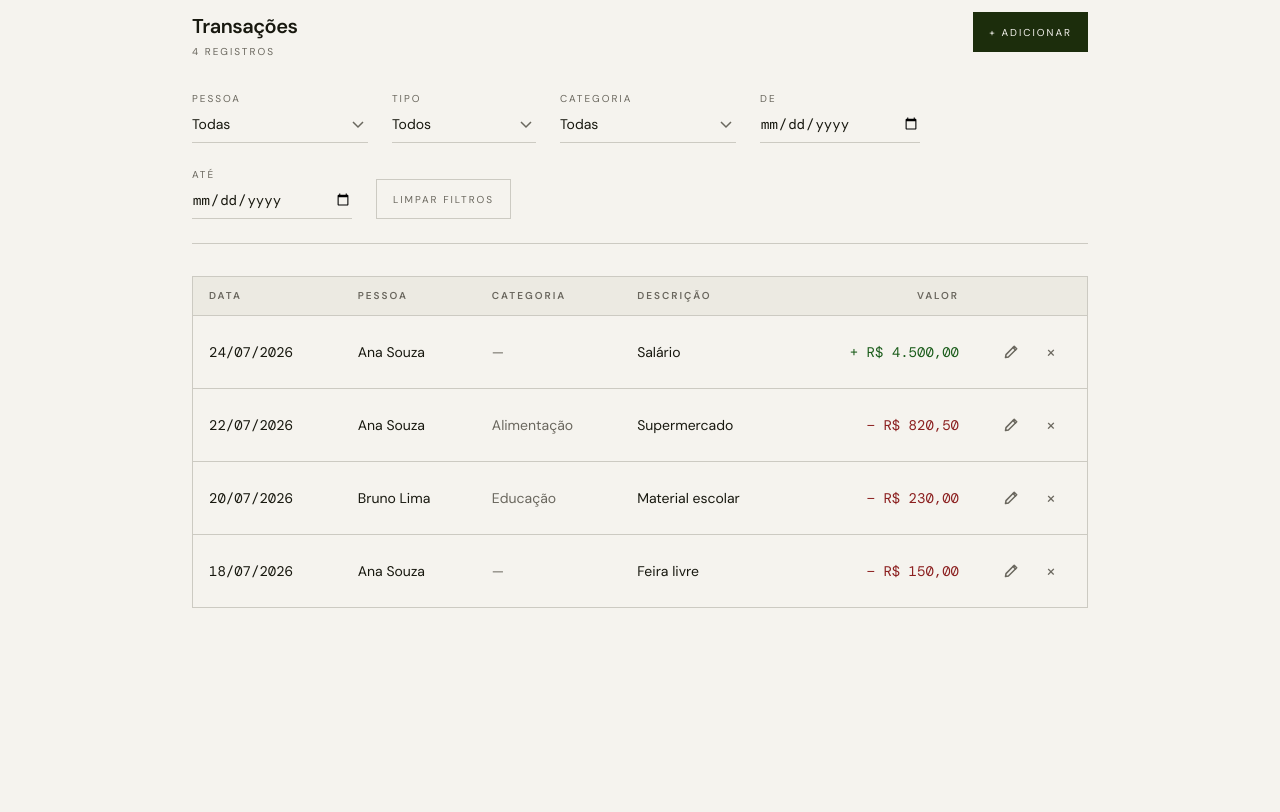
transações › recusa data futura
Expected: the text "Supermercado" is shown, top-left (621, 389), bottom-right (794, 462)
Click the button "+ Adicionar": x=1031, y=32 top-left (973, 12), bottom-right (1088, 52)
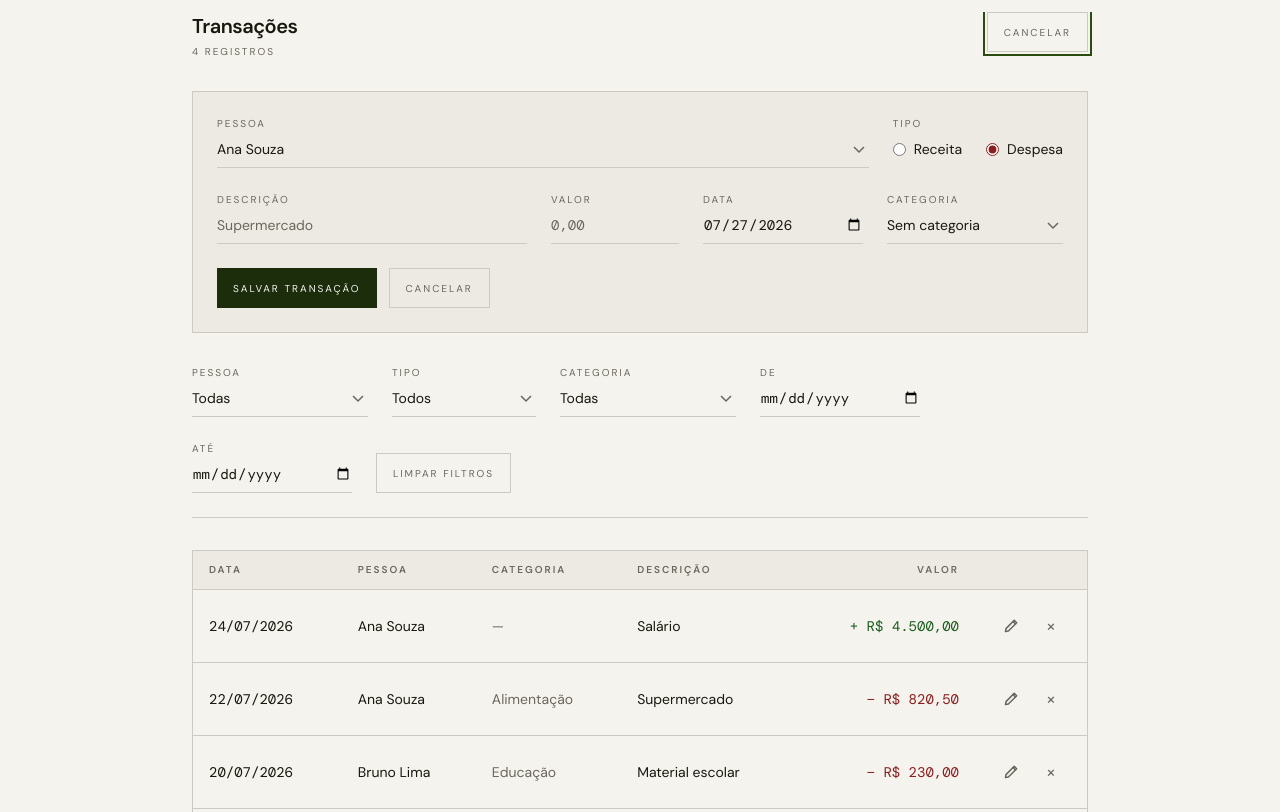
In the field labelled "Descrição": x=372, y=226 top-left (217, 207), bottom-right (527, 244), type "Padaria"
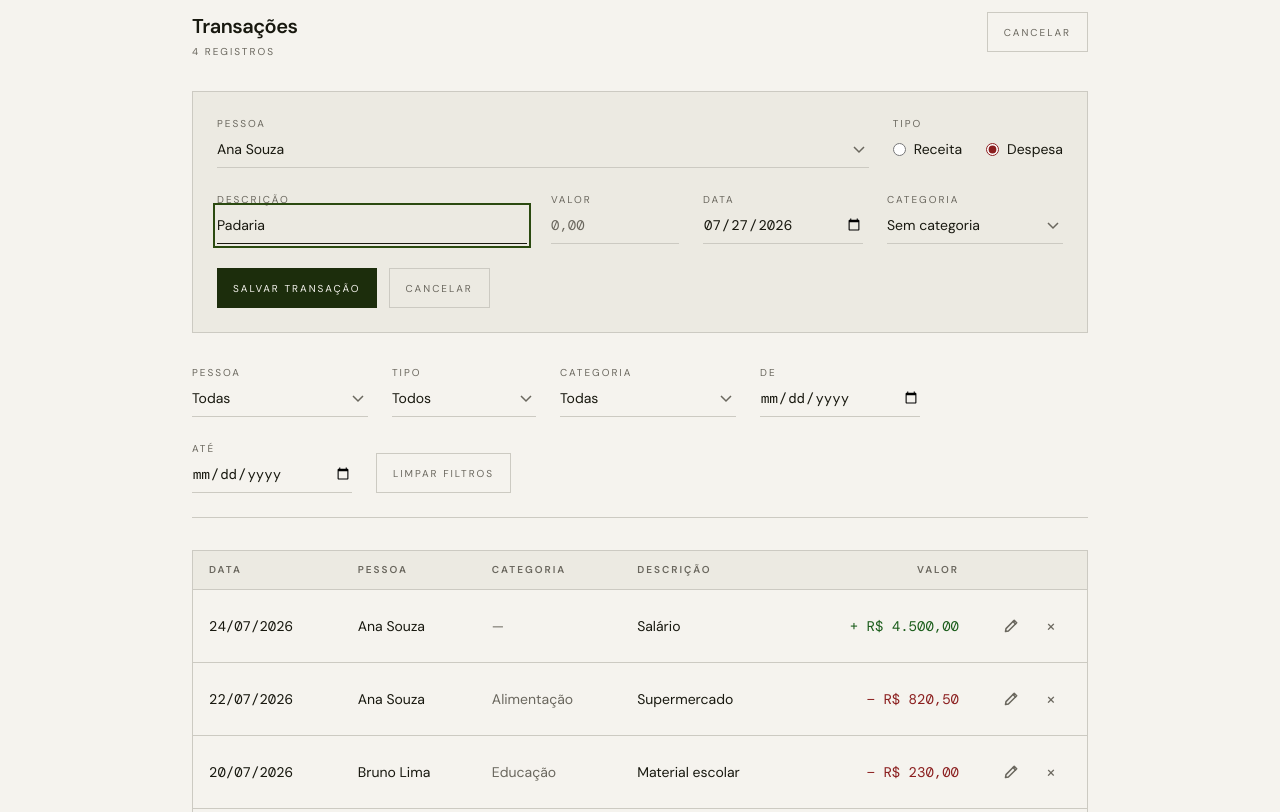
In the number field labelled "Valor": x=615, y=226 top-left (551, 207), bottom-right (679, 244), type "25"
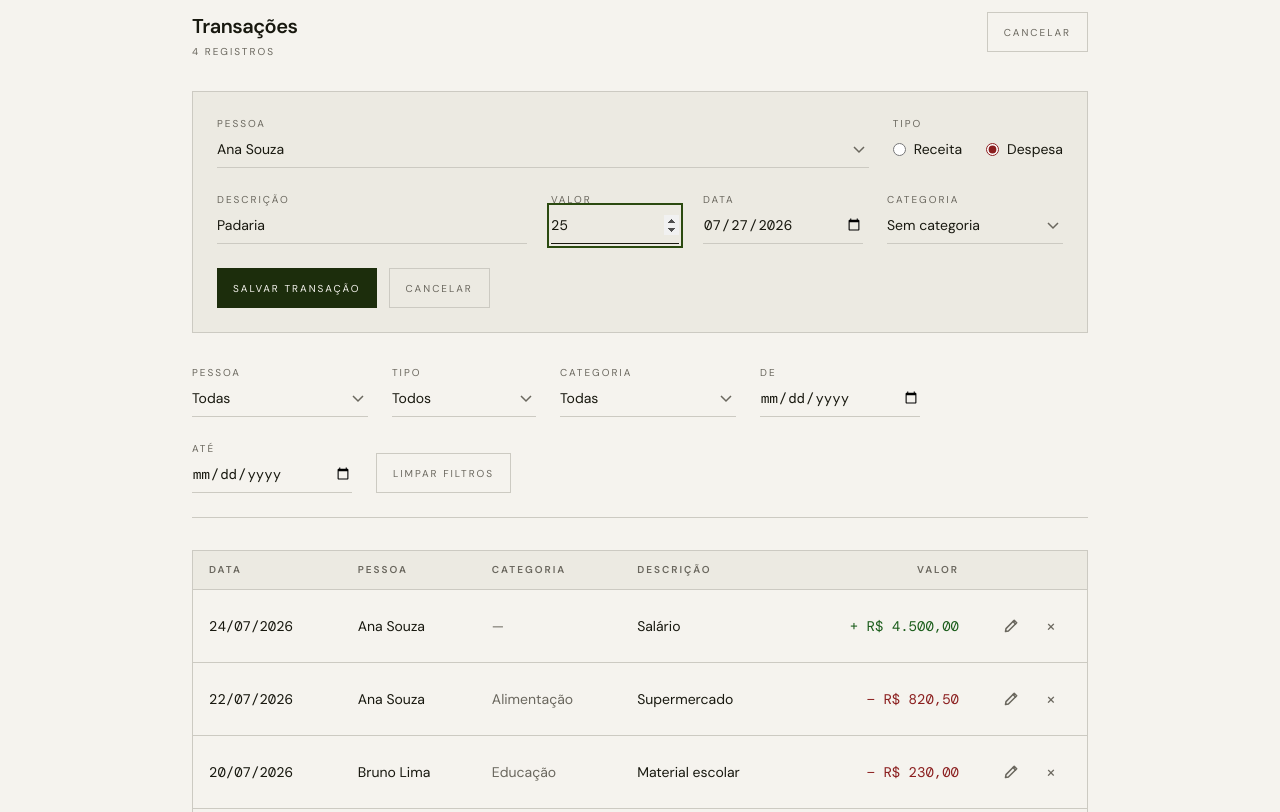
In the date field labelled "Data": x=783, y=226 top-left (703, 207), bottom-right (863, 244), type "2099-12-31"
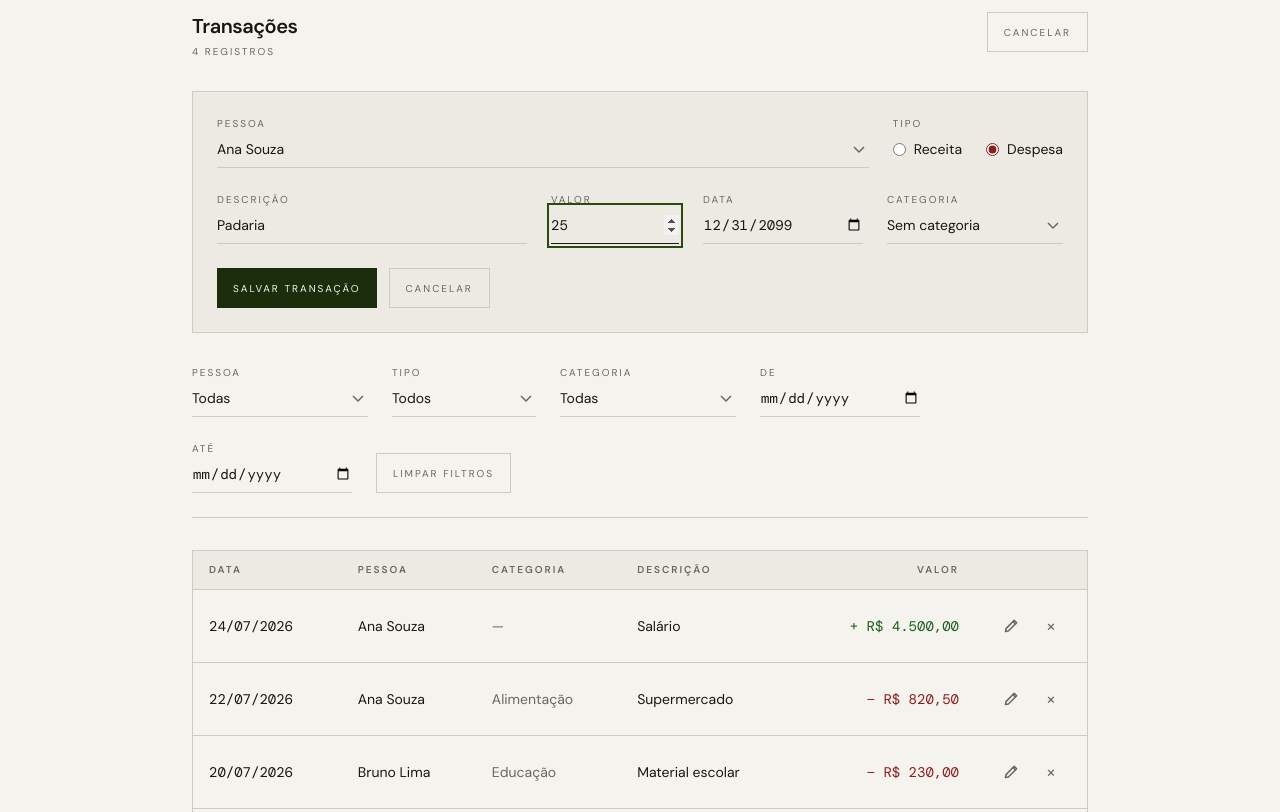
Click the button "Salvar transação": x=297, y=288 top-left (217, 268), bottom-right (377, 308)
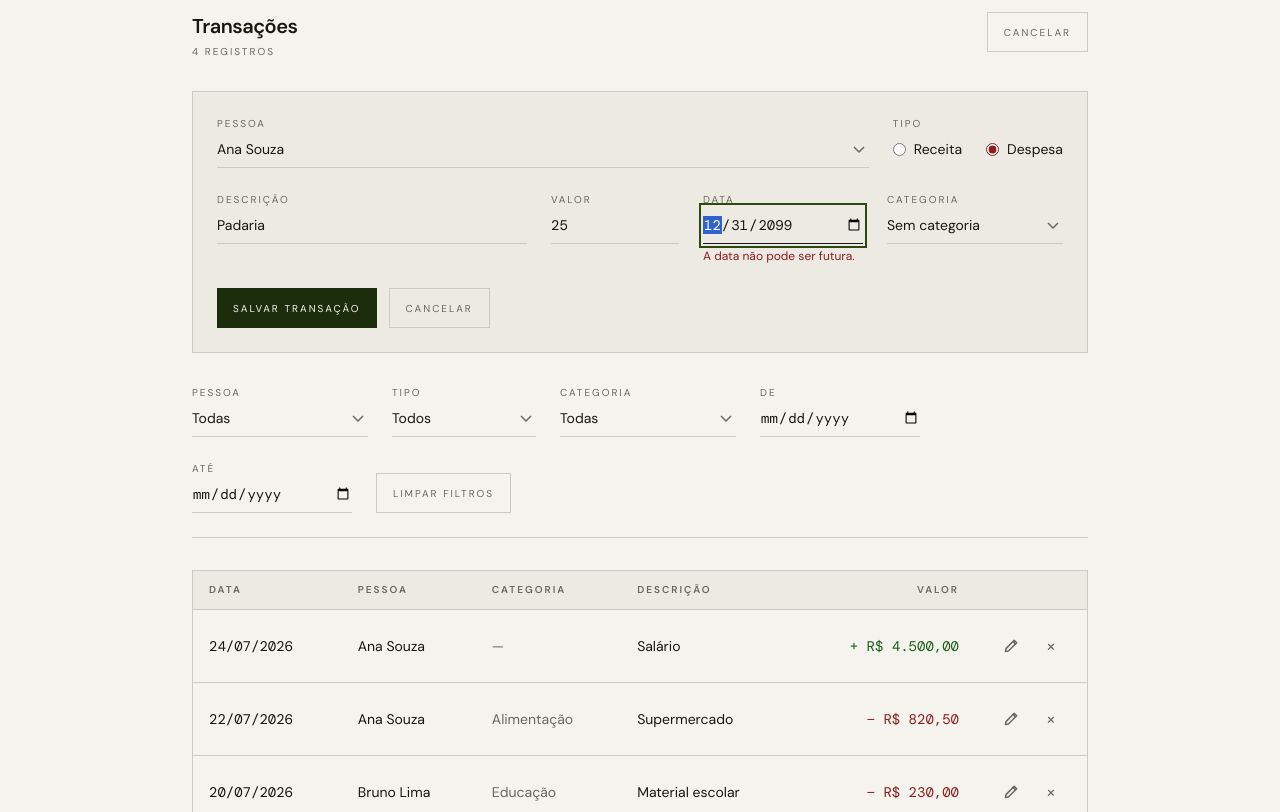
Expected: the text "A data não pode ser futura." is shown, top-left (703, 248), bottom-right (863, 264)
